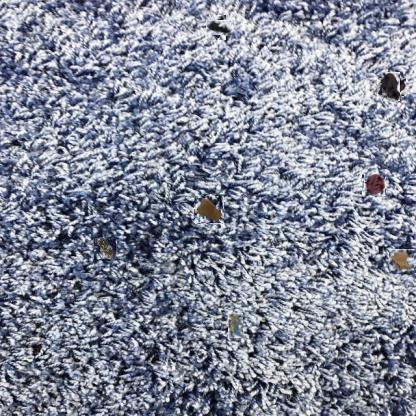dirty: (194, 195, 224, 224), (390, 249, 416, 274), (94, 237, 116, 259), (208, 17, 229, 38), (228, 313, 243, 338)
liquid: (380, 75, 403, 99), (363, 173, 386, 196)
